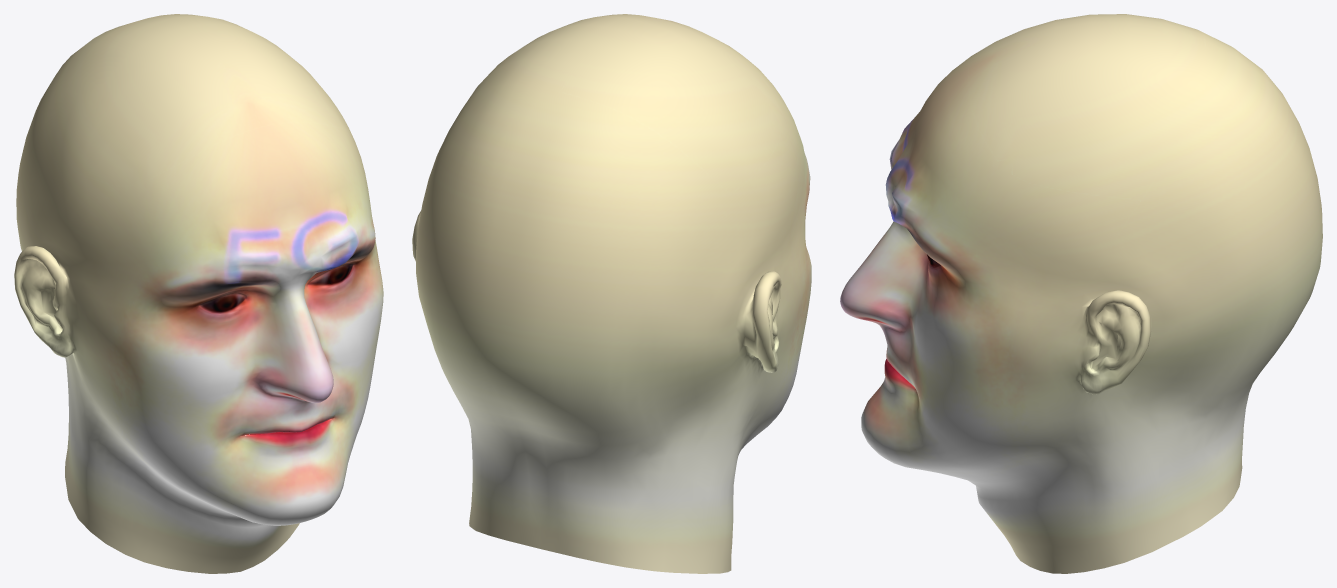
The model's file is avg_anyrace_male_13.obj.
3 renders of one model, left to right at view 1: azimuth 30°, elevation 25°; view 2: azimuth 150°, elevation 25°; view 3: azimuth 270°, elevation 25°, orthographic. The views are drawn at different scales.
Visible parts, largest first — view 1: HeadHires; view 2: HeadHires; view 3: HeadHires.
Part boxes in pixels (box(x1,y1,x2,y2)): HeadHires: box(14, 14, 383, 573); HeadHires: box(412, 14, 811, 573); HeadHires: box(840, 14, 1322, 573).
Size of the model in its own units: 193 by 283 by 238.
Materials: 1 (1 with a texture image).
